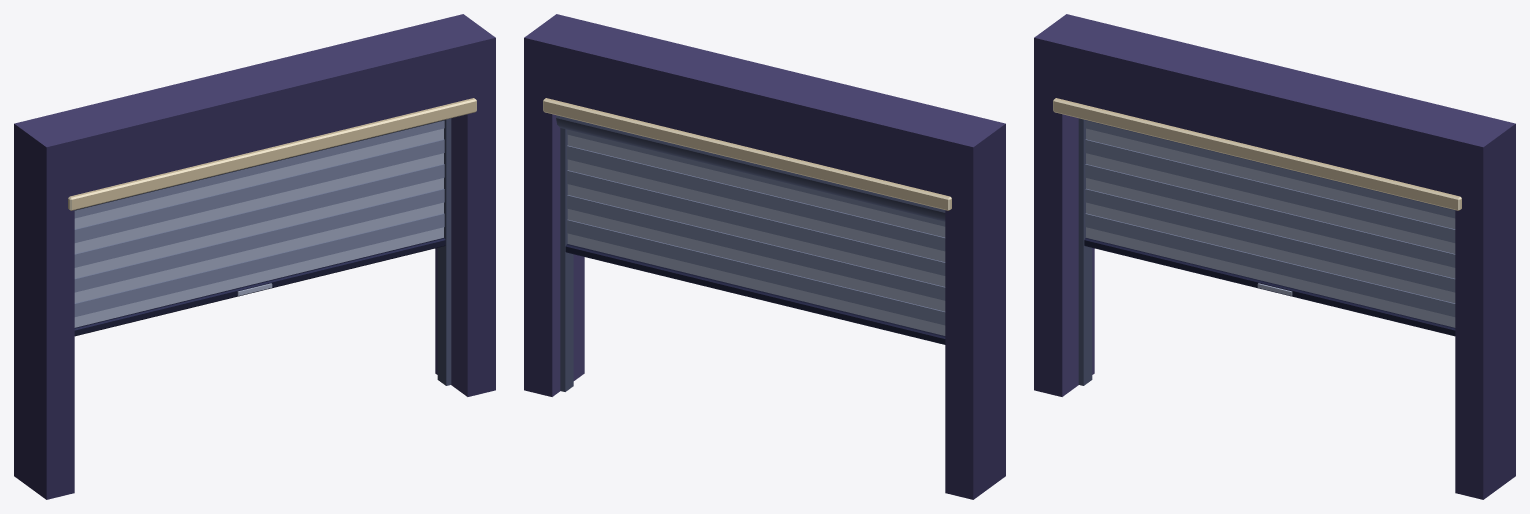
Rendered from GarageDoor_16x12.fbx.
The picture shows the model from 3 angles, left to right: view 1: azimuth 30°, elevation 25°; view 2: azimuth 150°, elevation 25°; view 3: azimuth 330°, elevation 25°; orthographic projection.
Parts seen in each view (by area): view 1: GarageDoor_16x12; view 2: GarageDoor_16x12; view 3: GarageDoor_16x12.
Part boxes in pixels (x1=…): GarageDoor_16x12: x1=14, y1=14, x2=495, y2=499; GarageDoor_16x12: x1=524, y1=14, x2=1005, y2=499; GarageDoor_16x12: x1=1034, y1=14, x2=1515, y2=499.
Bounding box in the file's own units: 16 × 12 × 2.36.
Materials: 1 (1 with a texture image).
